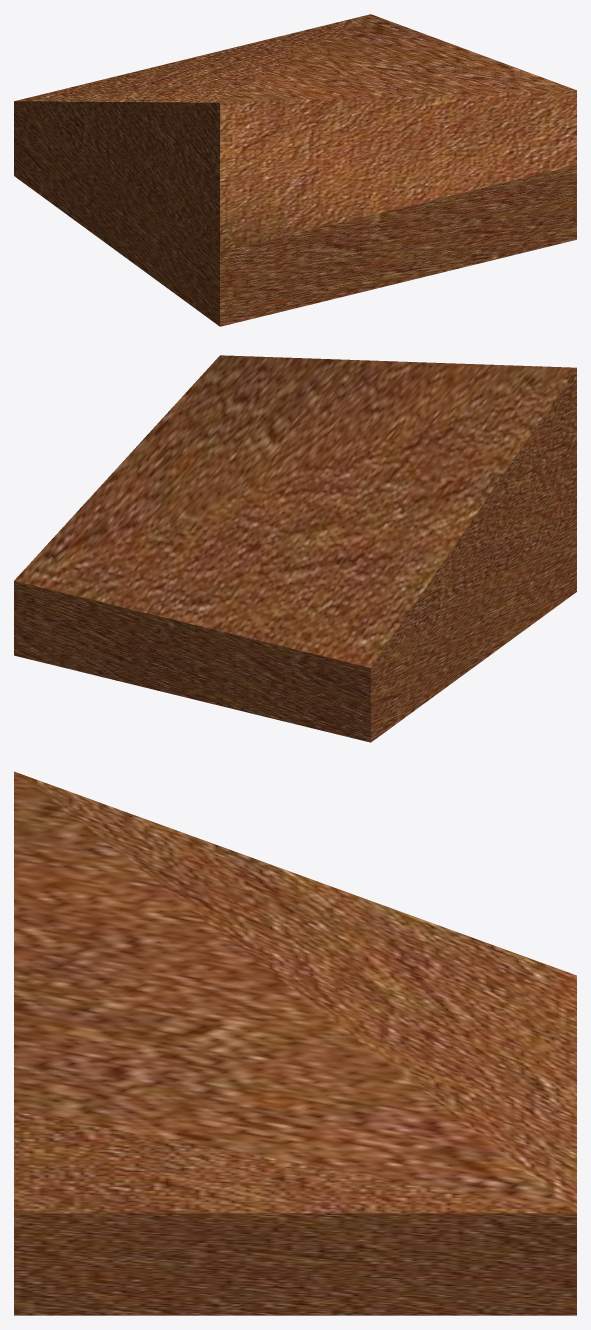
The model's file is Map0012.fbx.
3 renders of one model, top to bottom at view 1: azimuth 30°, elevation 25°; view 2: azimuth 150°, elevation 25°; view 3: azimuth 270°, elevation 25°, orthographic. The views are drawn at different scales.
Visible parts, largest first — view 1: Map0012, Map0000; view 2: Map0012, Map0000; view 3: Map0012, Map0000.
Boxes of the visible parts, <box> form: Map0012: <box>14,14,576,251</box>; Map0000: <box>14,101,576,326</box>; Map0012: <box>14,355,576,667</box>; Map0000: <box>14,517,576,742</box>; Map0012: <box>14,771,576,1213</box>; Map0000: <box>14,1213,576,1315</box>.
Size of the model in its own units: 200 by 120 by 200.
Materials: 2 (2 with a texture image).
